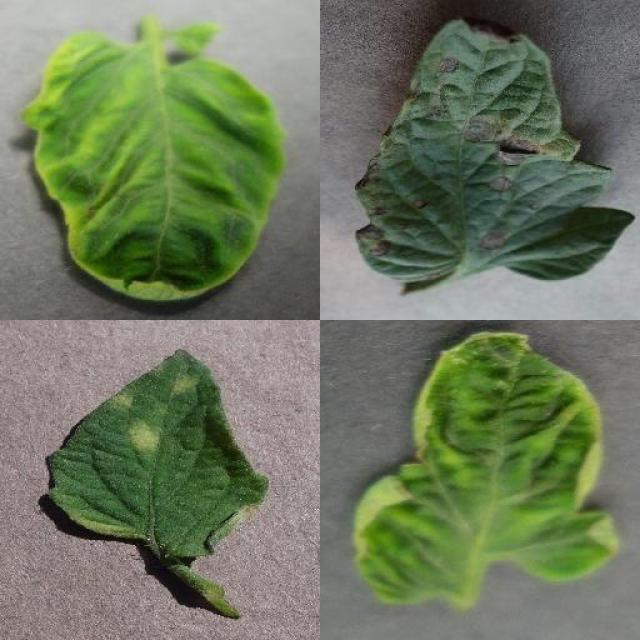Early Blight: (355, 16, 633, 282)
